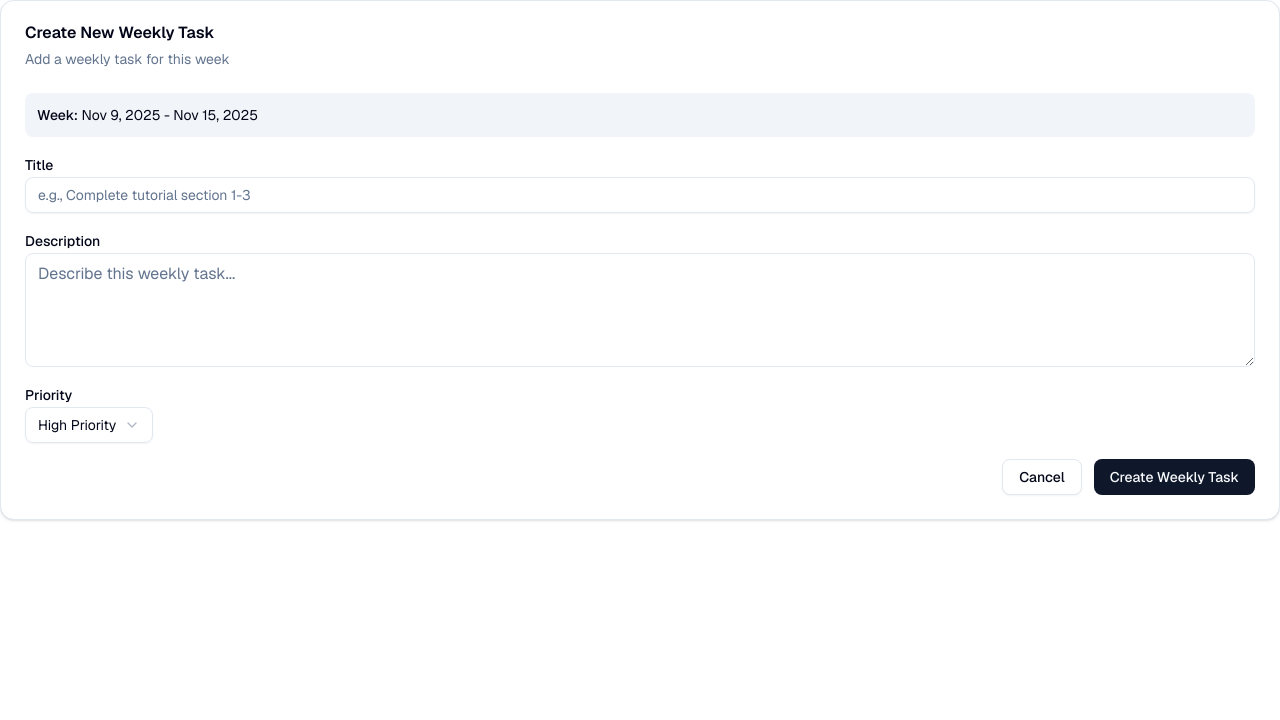
it: WeeklyTaskForm › Create Mode › displays error message on action failure
Type "Test task" into the field labelled "Title" at (640, 195), box [25,177,1255,213]
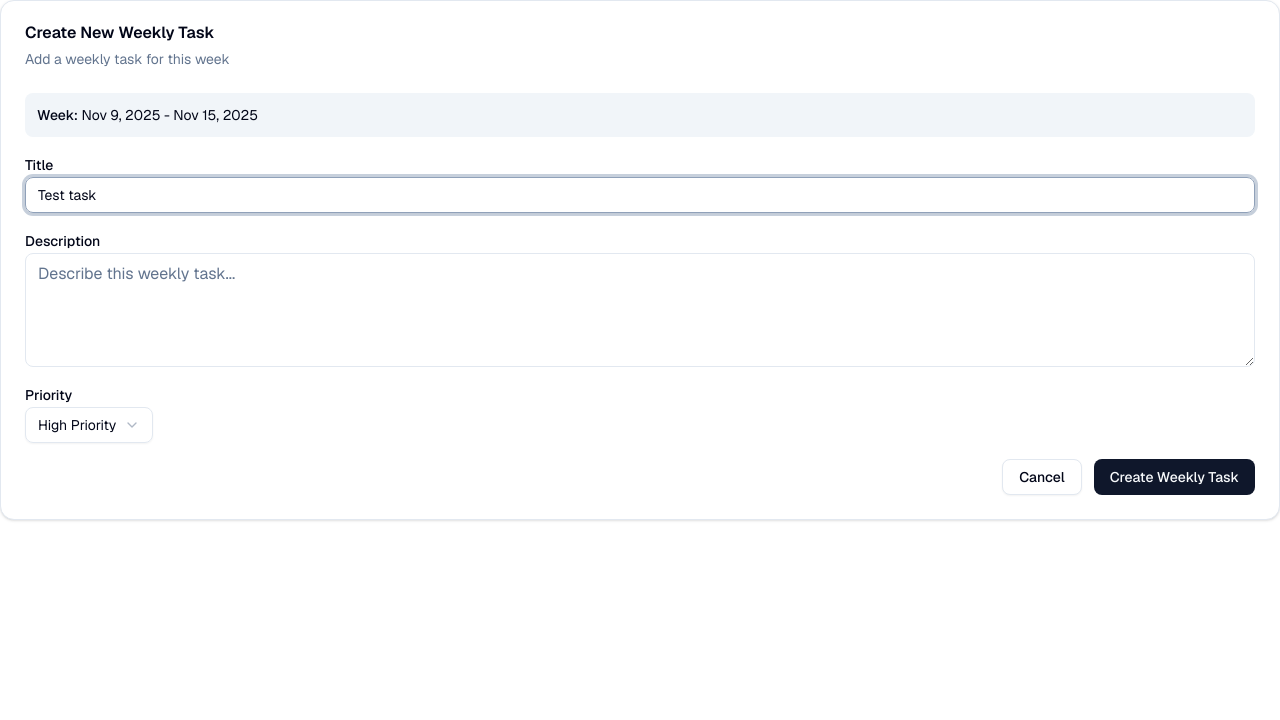
Click the button "Create Weekly Task" at (1174, 477), box [1094,459,1255,495]
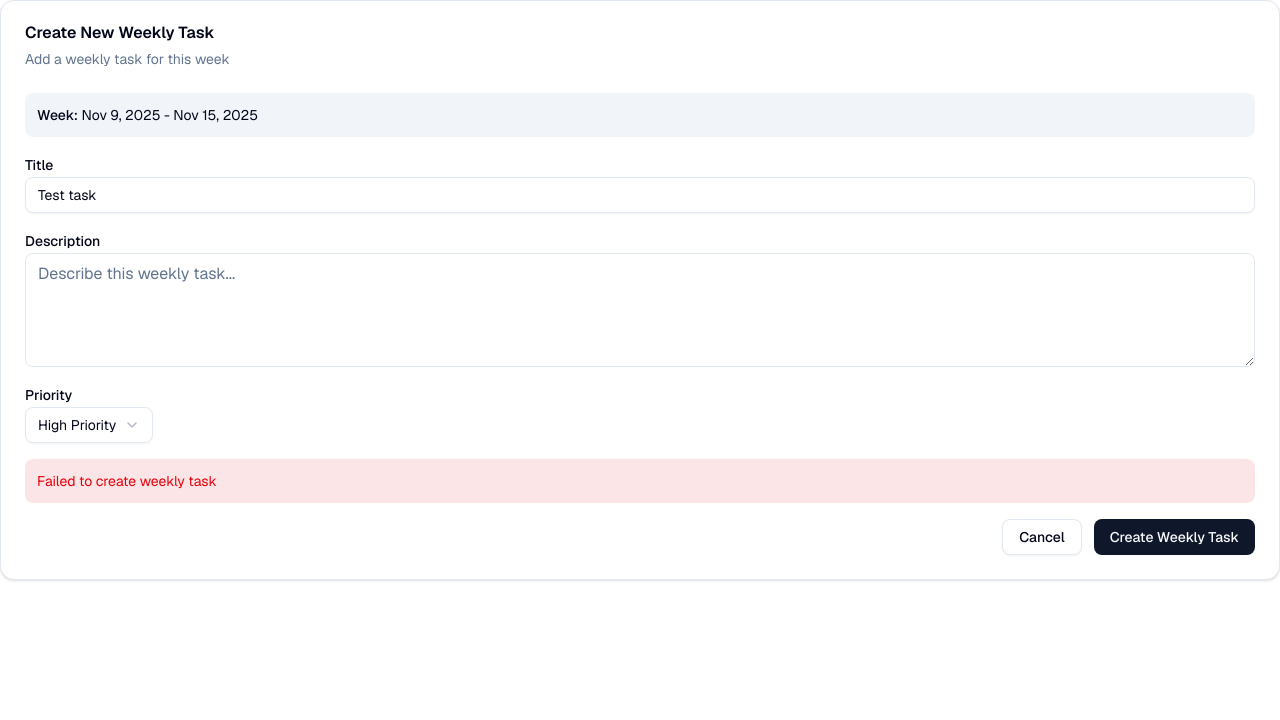
Expected: the text "Failed to create weekly task" is shown, [25,459,1255,503]
